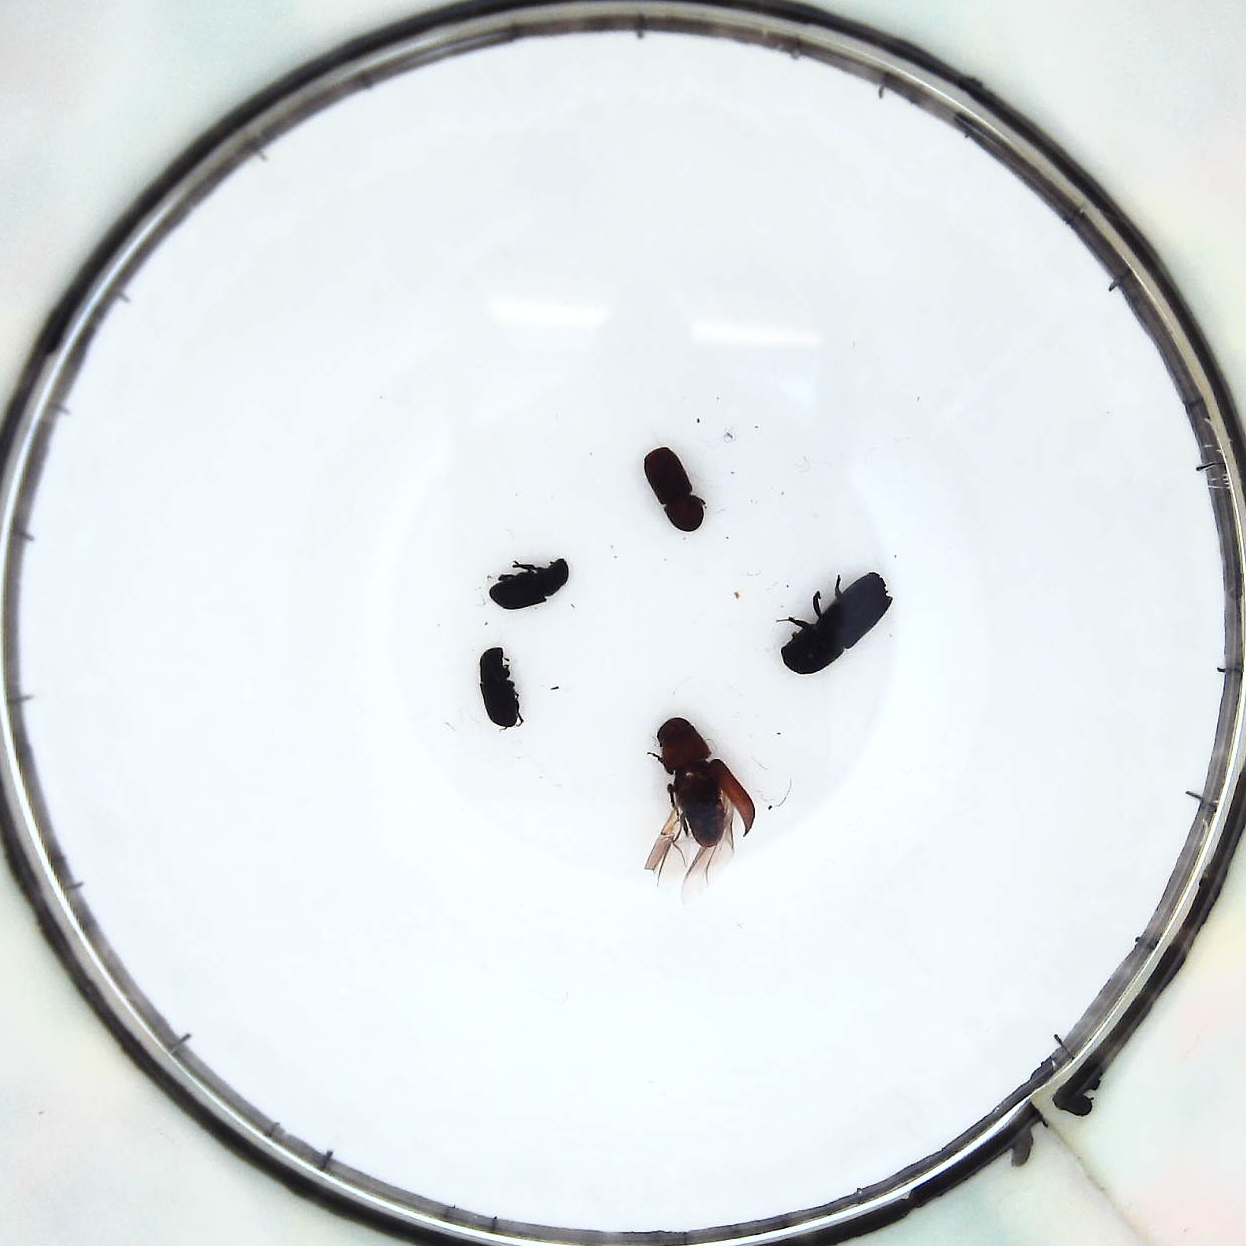Boerner: (778, 578, 891, 674)
Leconte: (647, 725, 751, 876)
Linnaeus: (644, 442, 703, 528)
armandi: (495, 559, 566, 613), (482, 647, 521, 723)
